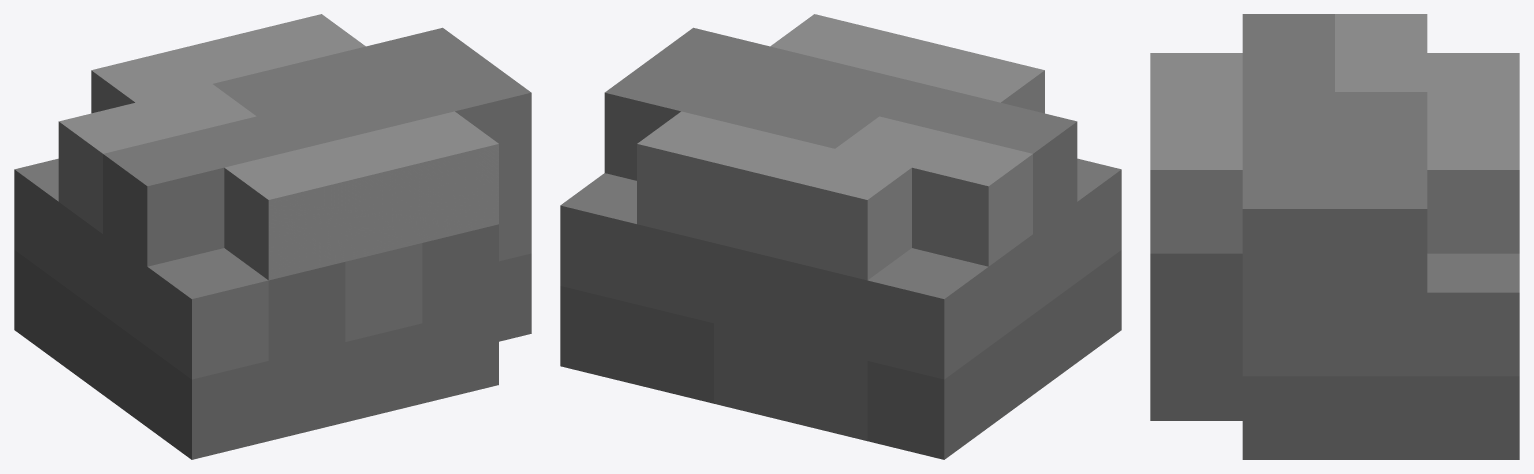
File: Stones-3.obj
3 views of the same model, side by side, from view 1: azimuth 30°, elevation 25°; view 2: azimuth 150°, elevation 25°; view 3: azimuth 270°, elevation 25° (orthographic). The views are drawn at different scales.
Bounding box in the file's own units: 0.5 × 0.3 × 0.4.
1 material, 1 textured.
